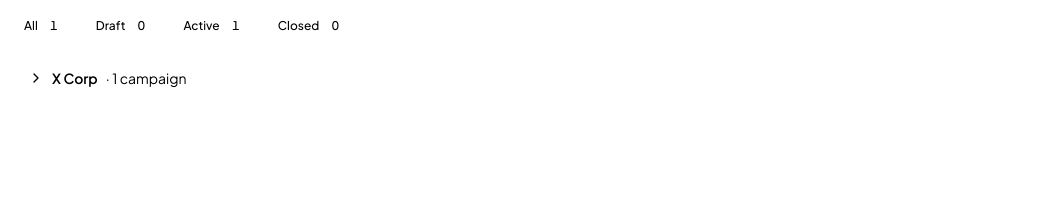
CampaignsListWithFilter — grouped by company › passes the precomputed metrics to each CampaignStatusMetrics with correct counts
Click the button "X Corp · 1 campaign". click: [75, 78]
box: [12,56,1036,100]
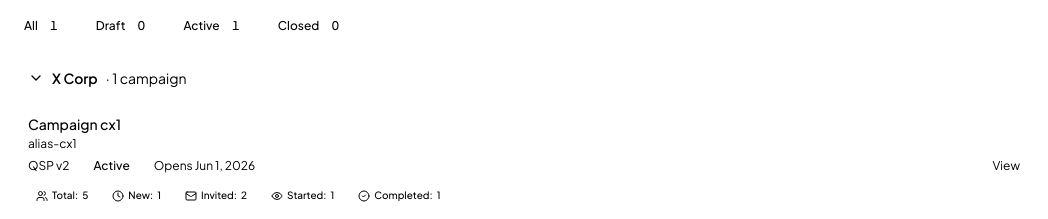
Expected: the element with test id "campaign-metrics-cx1-total" shows "5", [82,189,88,201]
